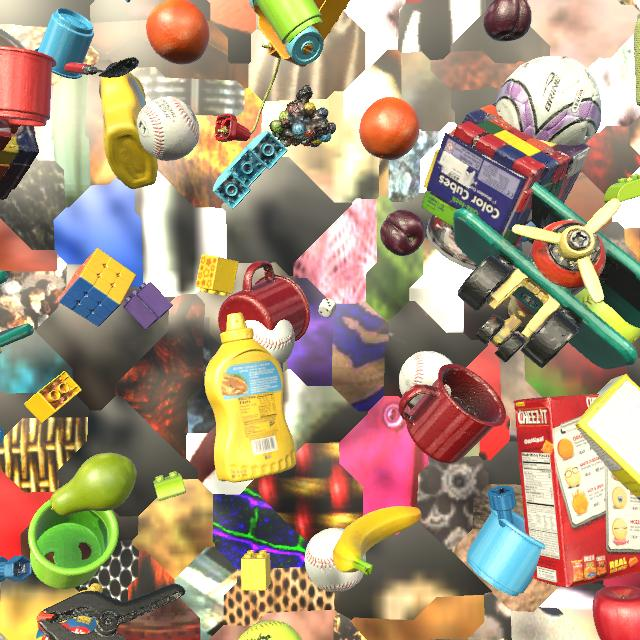ycb_003_cracker_box: (513, 394, 640, 588)
ycb_004_sugar_box: (575, 374, 640, 501)
ycb_006_mustard_bottle: (204, 313, 296, 482), (99, 72, 158, 189), (33, 583, 103, 640)
ycb_011_banana: (333, 506, 422, 576)
ycb_013_apple: (593, 585, 640, 640)
ycb_016_pear: (50, 453, 137, 516)
ycb_017_orange: (146, 0, 209, 65), (359, 97, 420, 160)
ycb_018_plum: (380, 210, 426, 256), (483, 0, 532, 41)
